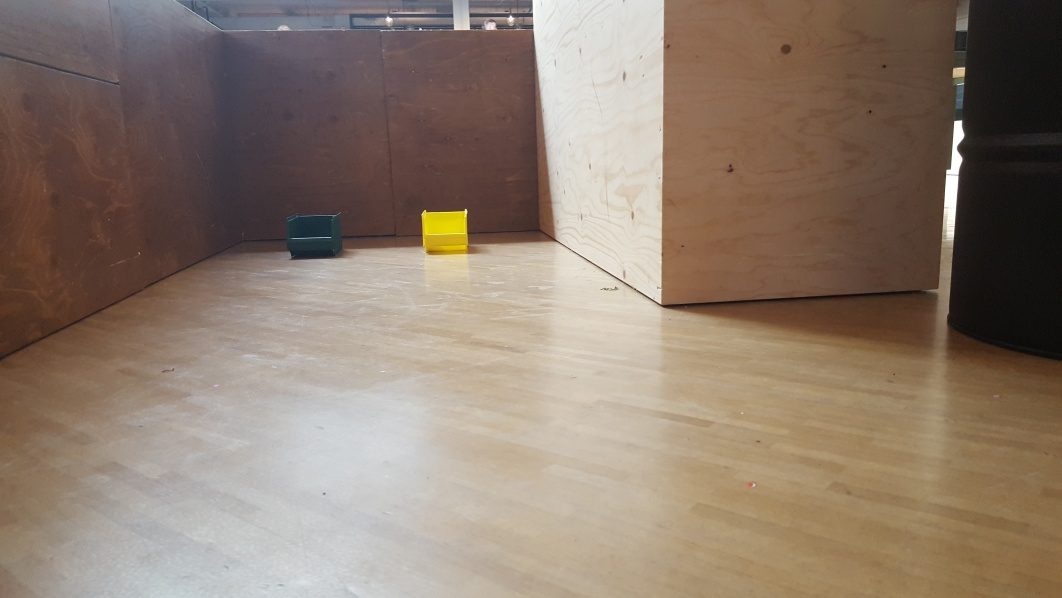tray: (418, 207, 471, 255), (283, 213, 346, 253)
